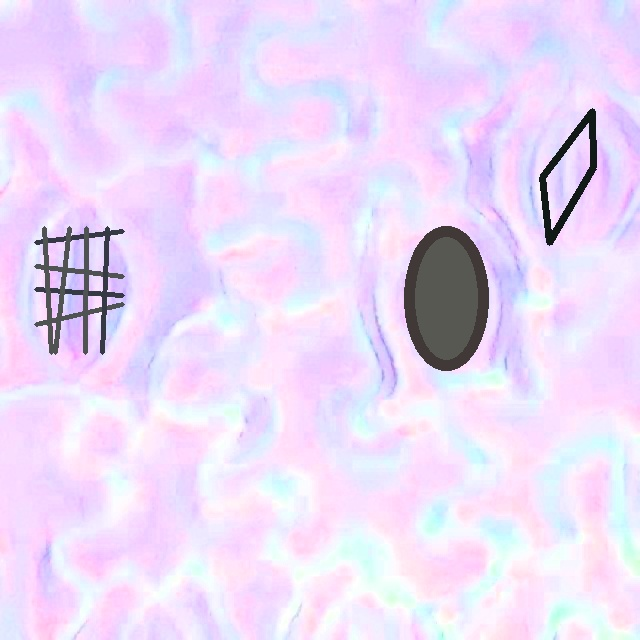close: (405, 227, 488, 369), (539, 108, 596, 245)
open: (34, 227, 123, 354)
